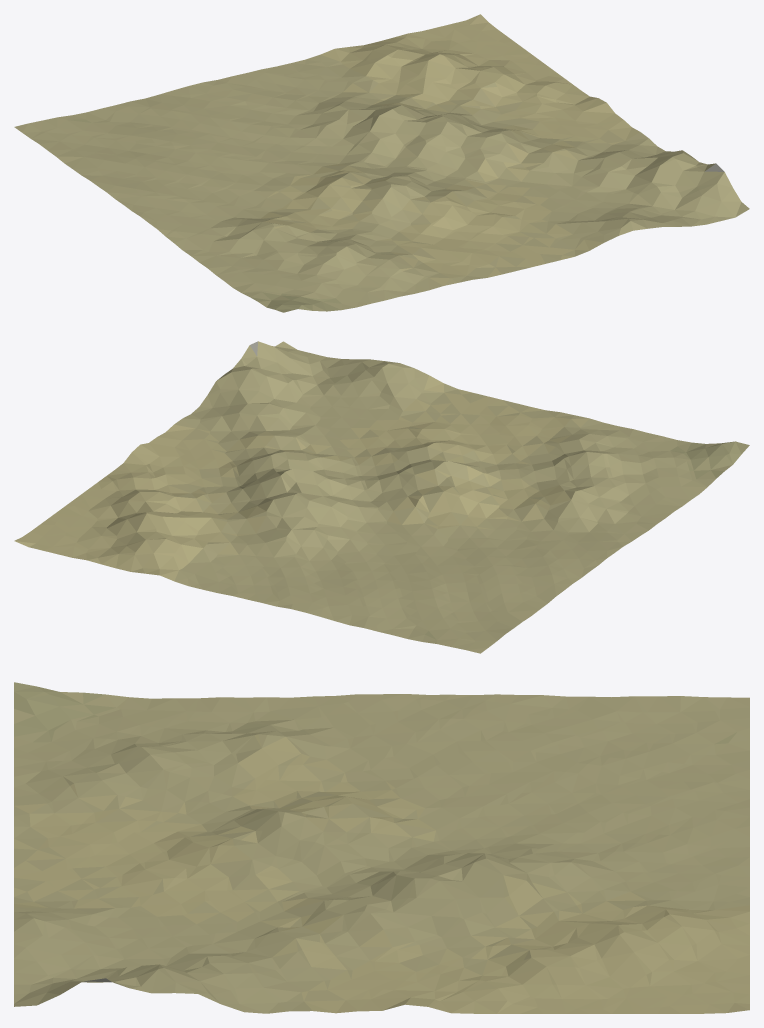
Rendered from Ground_-1_-3.glb.
3 renders of one model, top to bottom at view 1: azimuth 30°, elevation 25°; view 2: azimuth 150°, elevation 25°; view 3: azimuth 270°, elevation 25°, orthographic. The views are drawn at different scales.
Visible parts, largest first — view 1: Ground_-1_-3; view 2: Ground_-1_-3; view 3: Ground_-1_-3.
Part boxes in pixels (x1=…): Ground_-1_-3: x1=14, y1=14, x2=749, y2=312; Ground_-1_-3: x1=14, y1=341, x2=749, y2=653; Ground_-1_-3: x1=14, y1=682, x2=749, y2=1013.
Size of the model in its own units: 768 by 40.93 by 768.
